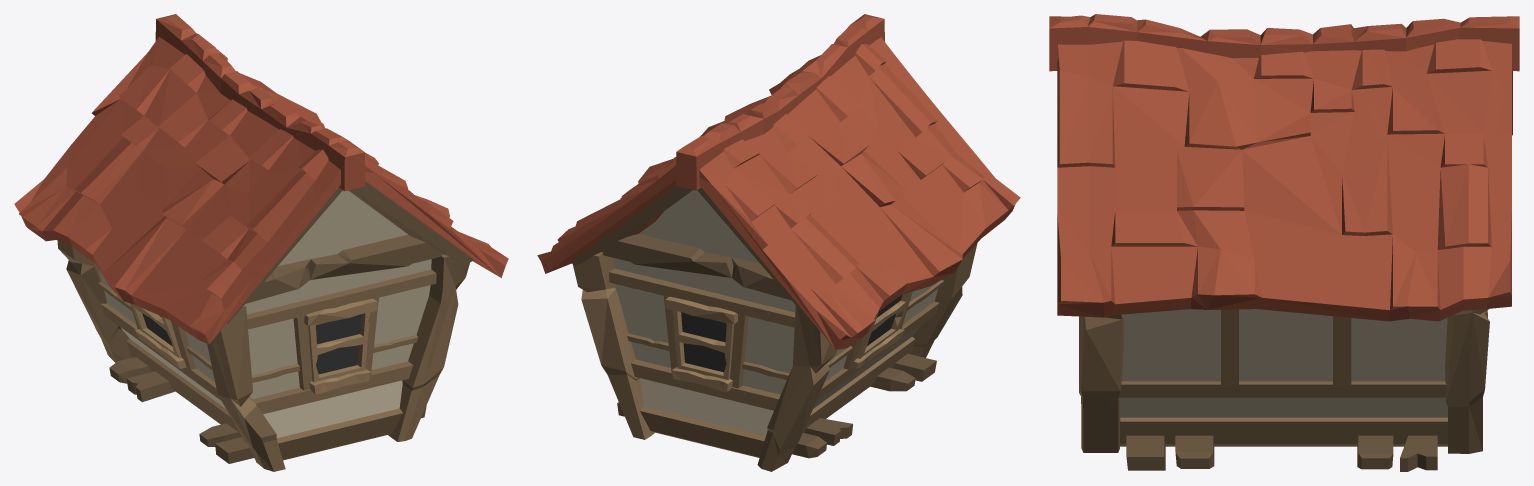
File: SM_Bld_House_TopRoomSmall_02.gltf
The picture shows the model from 3 angles, left to right: view 1: azimuth 30°, elevation 25°; view 2: azimuth 150°, elevation 25°; view 3: azimuth 270°, elevation 25°; orthographic projection. The views are drawn at different scales.
Visible parts, largest first — view 1: SM_Bld_House_TopRoomSmall_02; view 2: SM_Bld_House_TopRoomSmall_02; view 3: SM_Bld_House_TopRoomSmall_02.
Part boxes in pixels (left/top/right/bottom): SM_Bld_House_TopRoomSmall_02: left=14, top=14, right=508, bottom=471; SM_Bld_House_TopRoomSmall_02: left=537, top=14, right=1020, bottom=471; SM_Bld_House_TopRoomSmall_02: left=1049, top=14, right=1519, bottom=471.
Bounding box in the file's own units: 4.68 × 4.29 × 4.67.
1 material, 1 textured.
